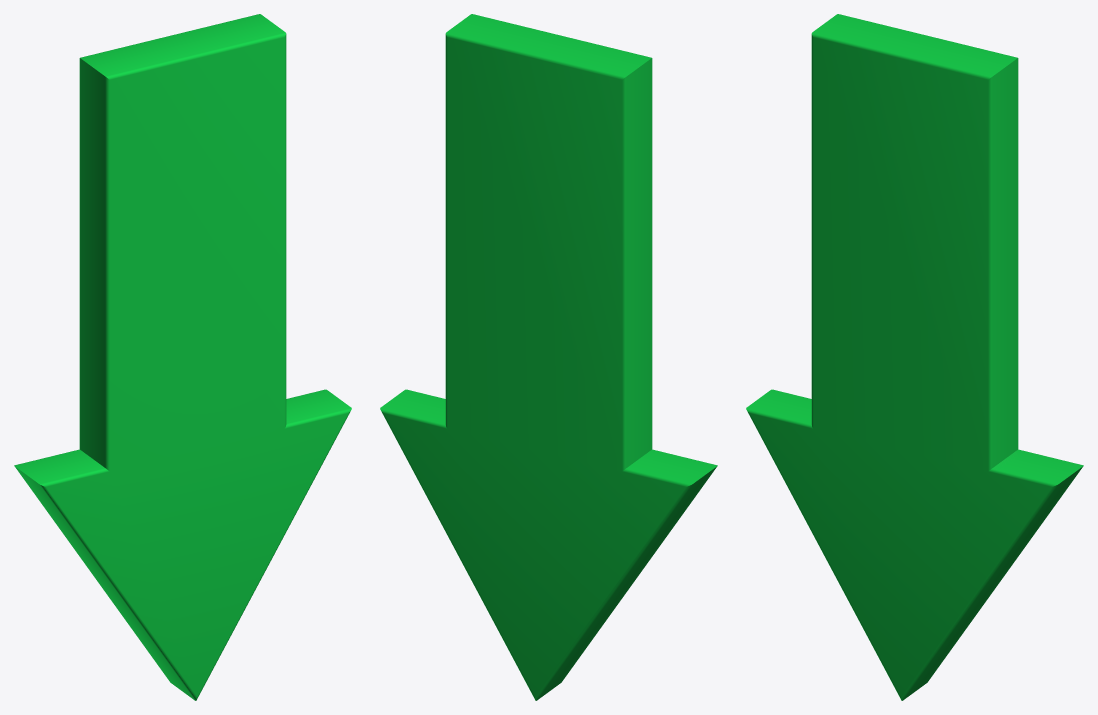
The model's file is Arrow.glb.
3 views of the same model, side by side, from view 1: azimuth 30°, elevation 25°; view 2: azimuth 150°, elevation 25°; view 3: azimuth 330°, elevation 25° (orthographic).
Parts seen in each view (by area): view 1: node_id4; view 2: node_id4; view 3: node_id4.
Boxes of the visible parts, left/top/right/bottom form: node_id4: left=14, top=14, right=351, bottom=700; node_id4: left=380, top=14, right=717, bottom=700; node_id4: left=746, top=14, right=1083, bottom=700.
Size of the model in its own units: 0.259 by 0.512 by 0.0407.
Materials: 1 (1 with a texture image).
